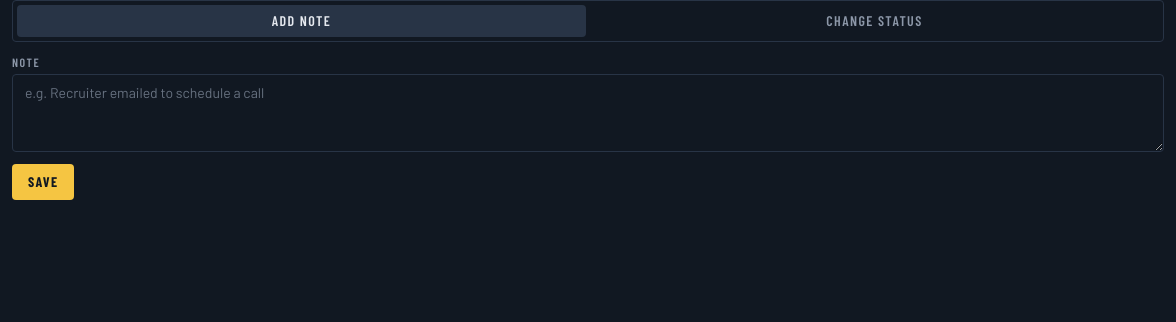
Test case: AddEventForm › requires a new status in status mode
The width and height of the screenshot is (1176, 322).
Click the button "Change status".
click(874, 21)  # box left=590, top=5, right=1159, bottom=37
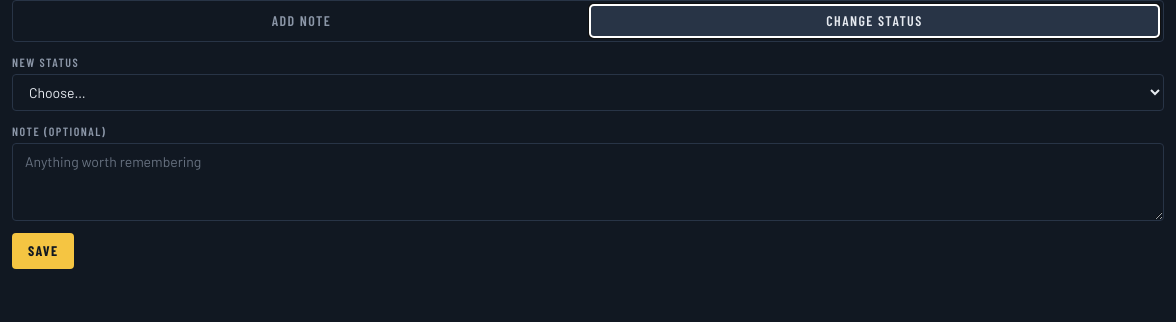
Click the button "Save".
click(43, 251)  # box left=12, top=233, right=74, bottom=269
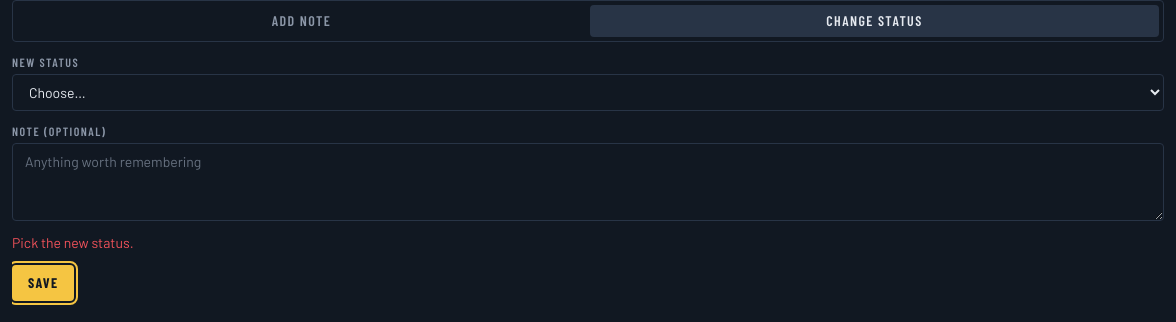
Check: the message reads "Pick the new status.", box left=12, top=234, right=134, bottom=251
